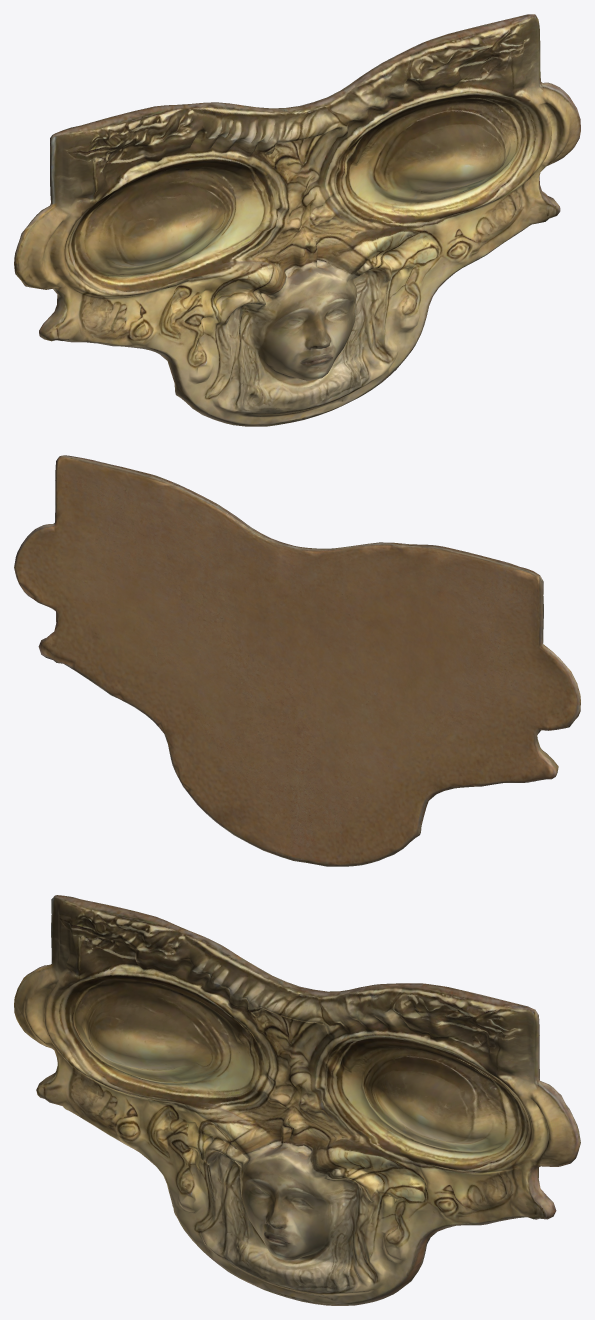
The model's file is mazen 2 .glb.
3 views of the same model, one above another, from view 1: azimuth 30°, elevation 25°; view 2: azimuth 150°, elevation 25°; view 3: azimuth 330°, elevation 25° (orthographic).
Size of the model in its own units: 2 by 1.18 by 0.1768.
1 material, 1 textured.
